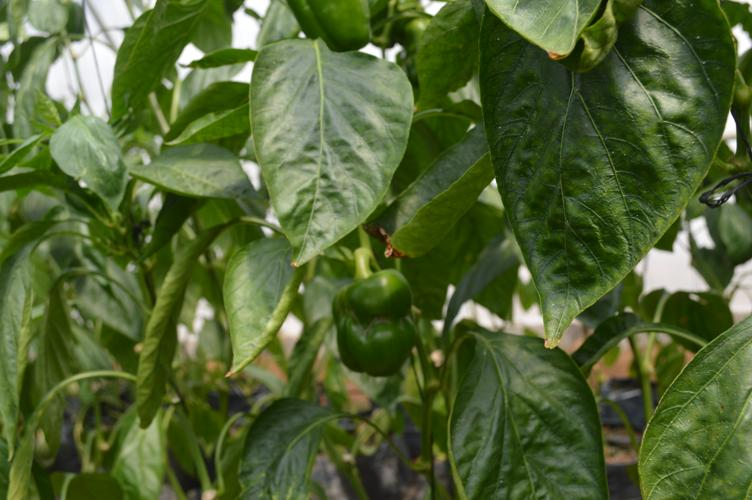BellPepper: (329, 267, 419, 376), (296, 4, 373, 54)
